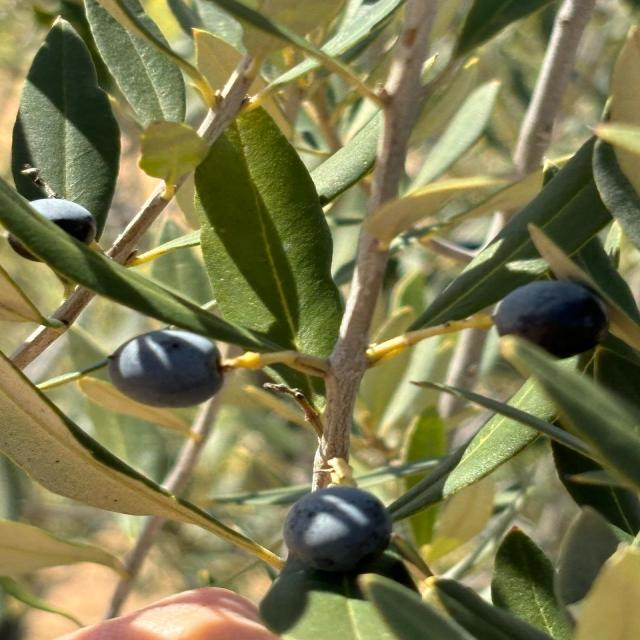Healthy: (283, 486, 391, 577), (107, 329, 225, 409)
